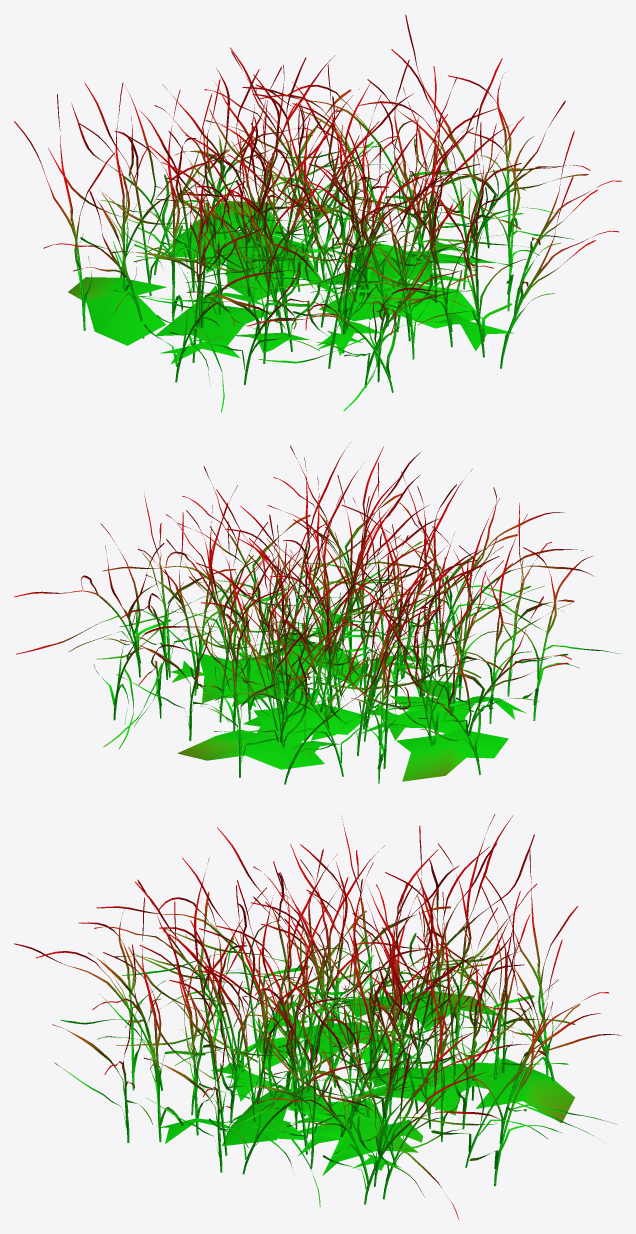
The model's file is Kikuyu Grass_LOD0_Var7_wiljearqx.fbx.
3 views of the same model, one above another, from view 1: azimuth 30°, elevation 25°; view 2: azimuth 150°, elevation 25°; view 3: azimuth 270°, elevation 25° (orthographic). The views are drawn at different scales.
Visible parts, largest first — view 1: _op2y_Var7_LOD0; view 2: _op2y_Var7_LOD0; view 3: _op2y_Var7_LOD0.
Boxes of the visible parts, x1,y1,x2,y2 form: _op2y_Var7_LOD0: (14,14,621,412); _op2y_Var7_LOD0: (14,445,621,784); _op2y_Var7_LOD0: (14,814,621,1219).
Size of the model in its own units: 90.78 by 34.13 by 84.65.
